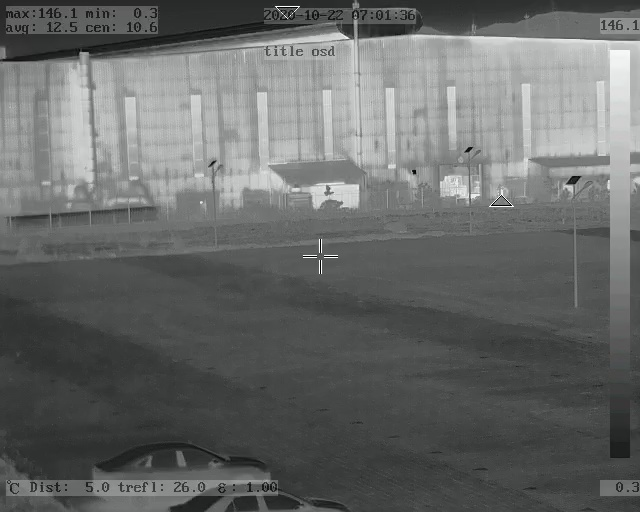vehicle: (87, 435, 283, 504)
